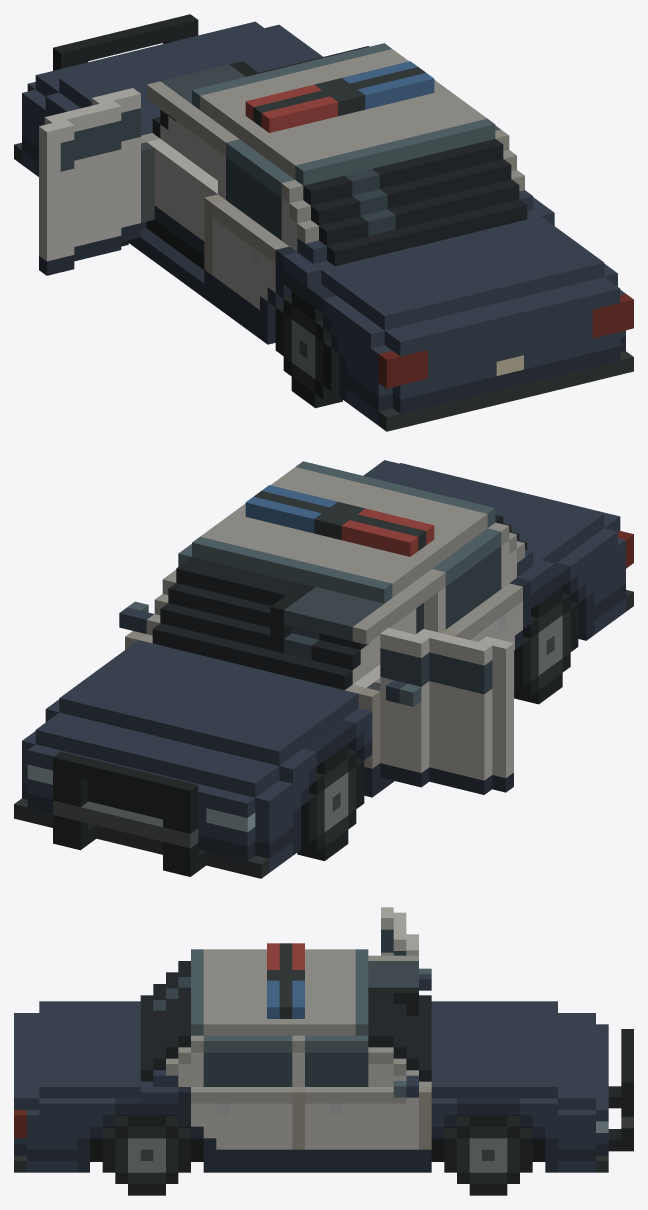
File: Claude_police_car.glb
3 renders of one model, top to bottom at view 1: azimuth 30°, elevation 25°; view 2: azimuth 150°, elevation 25°; view 3: azimuth 270°, elevation 25°, orthographic. The views are drawn at different scales.
Parts seen in each view (by area): view 1: Claude_police_car; view 2: Claude_police_car; view 3: Claude_police_car.
Part boxes in pixels (left/top/right/bottom): Claude_police_car: left=14, top=14, right=633, bottom=431; Claude_police_car: left=14, top=460, right=633, bottom=878; Claude_police_car: left=14, top=907, right=633, bottom=1195.
Bounding box in the file's own units: 2.7 × 1.5 × 4.9.
